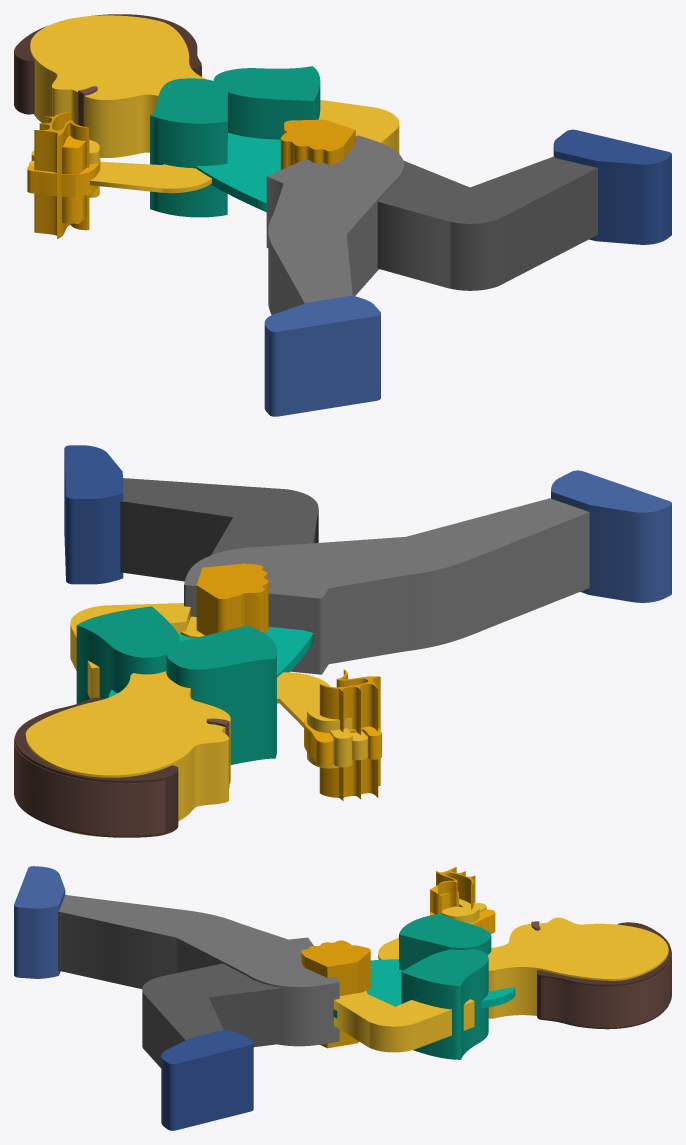
File: emoji_u1f3c3_200d_2642.glb
3 renders of one model, top to bottom at view 1: azimuth 30°, elevation 25°; view 2: azimuth 150°, elevation 25°; view 3: azimuth 270°, elevation 25°, orthographic. The views are drawn at different scales.
Visible parts, largest first — view 1: emoji_u1f3c3_200d_2642; view 2: emoji_u1f3c3_200d_2642; view 3: emoji_u1f3c3_200d_2642.
Boxes of the visible parts, x1,y1,x2,y2 form: emoji_u1f3c3_200d_2642: [14, 14, 671, 416]; emoji_u1f3c3_200d_2642: [14, 445, 671, 837]; emoji_u1f3c3_200d_2642: [14, 866, 671, 1130].
Size of the model in its own units: 0.0228 by 0.0046 by 0.0322.
